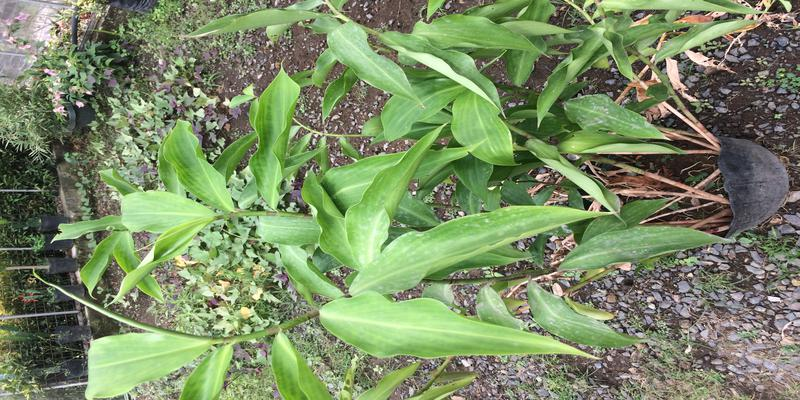Insulin: (277, 42, 717, 362)
